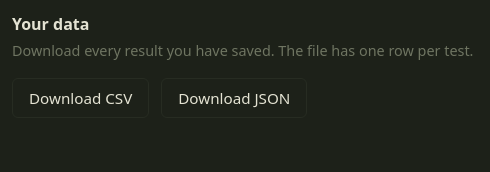
Test: DataExport › shows a generic error and disables the buttons while a download is busy
The image size is (490, 172).
Later steps or results of the test are not shown.
Click the button "Download CSV" at {"x": 81, "y": 98}, box top-left (12, 78), bottom-right (149, 118)
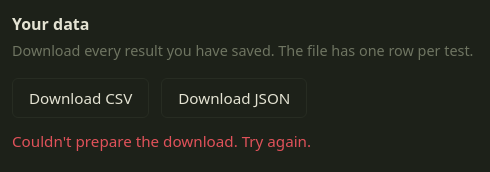
Result: the message reads "Couldn't prepare the download. Try again." at top-left (12, 131), bottom-right (311, 151)
